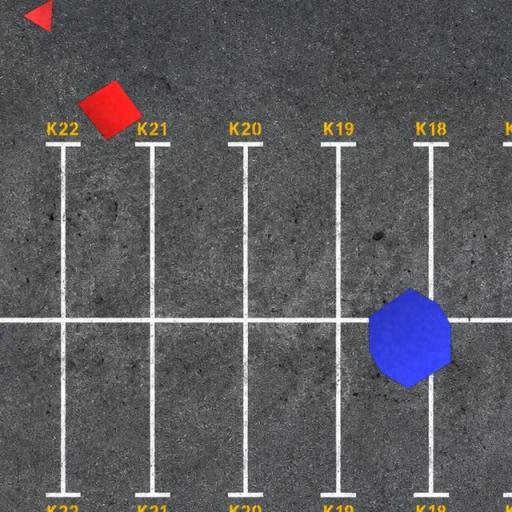RED_SQUARE: (77, 79, 144, 141)
